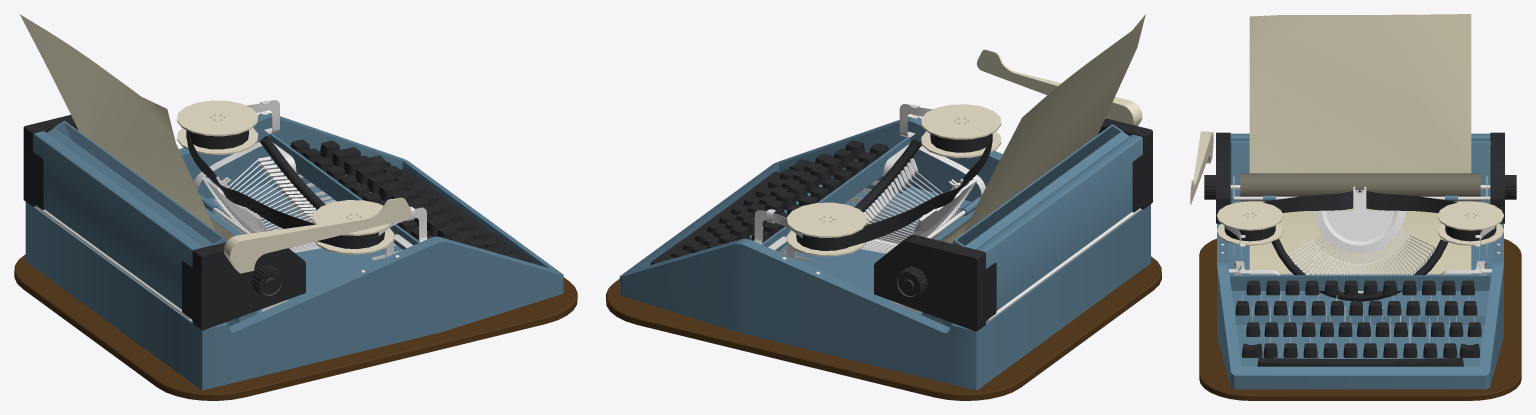
The model's file is writemachine.fbx.
3 views of the same model, side by side, from view 1: azimuth 30°, elevation 25°; view 2: azimuth 150°, elevation 25°; view 3: azimuth 270°, elevation 25° (orthographic). The views are drawn at different scales.
Parts seen in each view (by area): view 1: Cube, Plane.001, Plane.002, Cube.006, Cube.001, Cube.003, Plane.005, Cylinder.010, Cylinder, Cube.008, Cube.002, Plane (+10 smaller); view 2: Cube, Plane.001, Cube.006, Plane.002, Cube.001, Cube.003, Cylinder, Cylinder.010, Cube.008, Plane.005, Plane, Cube.005 (+10 smaller); view 3: Plane.002, Cube, Plane.001, Cylinder.001, Circle.001, Cube.002, Cube.008, Cube.009, Plane, Cube.005, Cylinder.010, Cylinder (+11 smaller).
Part boxes in pixels (x1,y1,x2,y2): Cube: (25, 112, 563, 390); Plane.001: (14, 254, 577, 400); Plane.002: (19, 14, 287, 305); Cube.006: (33, 131, 202, 309); Cube.001: (23, 115, 305, 330); Cube.003: (47, 120, 257, 326); Plane.005: (224, 197, 411, 273); Cylinder.010: (177, 100, 258, 154); Cylinder: (313, 200, 394, 254); Cube.008: (320, 140, 479, 247); Cube.002: (269, 134, 419, 249); Plane: (186, 130, 334, 245); Cube: (619, 116, 1150, 390); Plane.001: (606, 256, 1161, 400); Cube.006: (975, 134, 1142, 310); Plane.002: (891, 14, 1145, 307); Cube.001: (874, 118, 1152, 331); Cube.003: (921, 124, 1129, 327); Cylinder: (921, 104, 1001, 158); Cylinder.010: (787, 202, 867, 256); Cube.008: (707, 140, 864, 248); Plane.005: (977, 49, 1142, 125); Plane: (847, 133, 992, 247); Cube.005: (747, 143, 888, 242); Plane.002: (1249, 14, 1471, 274); Cube: (1217, 223, 1503, 389); Plane.001: (1199, 238, 1521, 400); Cylinder.001: (1240, 173, 1480, 201); Circle.001: (1314, 186, 1405, 253); Cube.002: (1229, 275, 1491, 290); Cube.008: (1235, 301, 1477, 315); Cube.009: (1246, 322, 1481, 336); Plane: (1262, 190, 1457, 213); Cube.005: (1246, 280, 1474, 295); Cylinder.010: (1437, 201, 1503, 245); Cylinder: (1217, 201, 1283, 245).
Bounding box in the file's own units: 1166 × 746 × 996.
